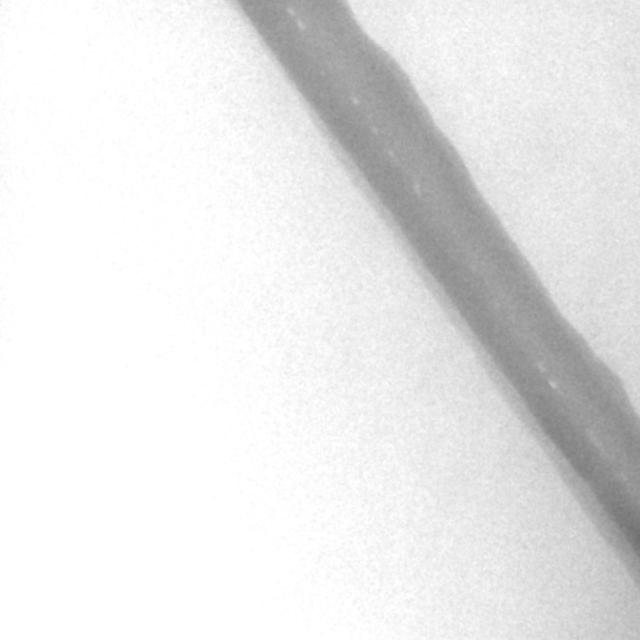air hole: (410, 180, 423, 197), (545, 376, 557, 392), (349, 94, 360, 106), (294, 20, 304, 31)
